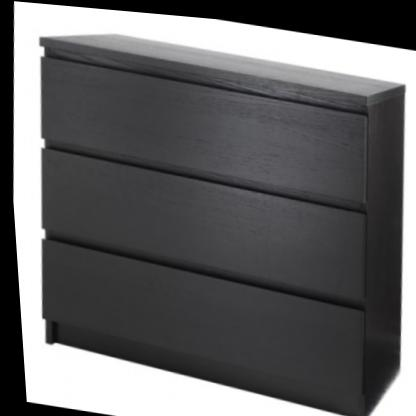Cabinet: (9, 12, 416, 416)
